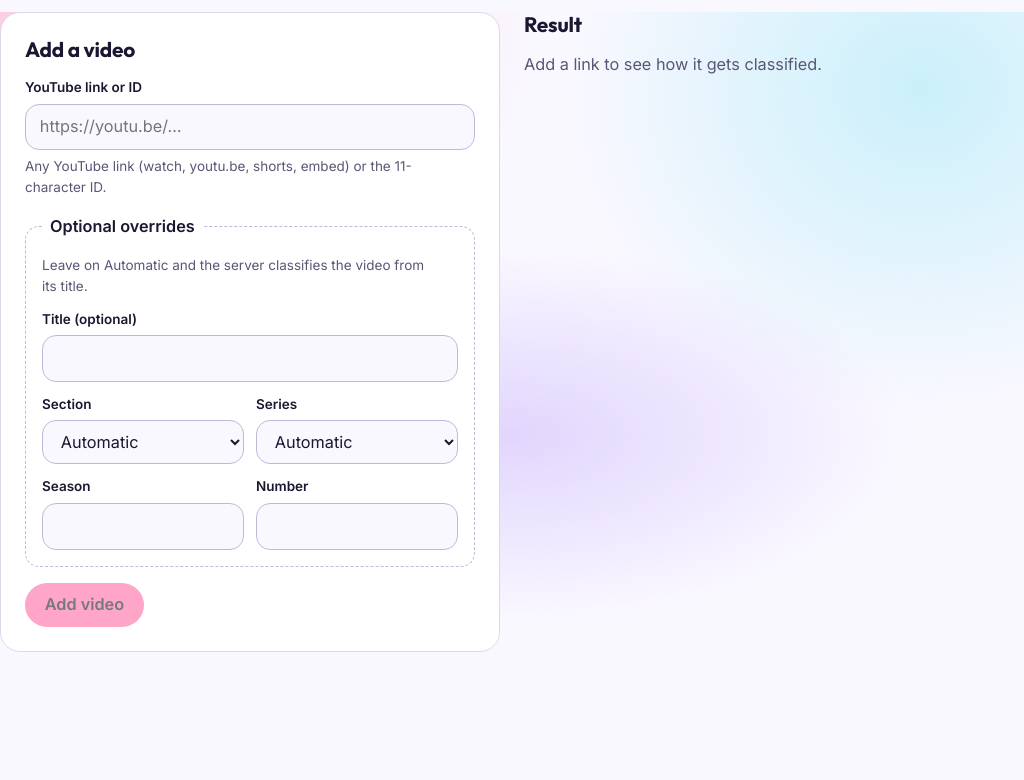
it: adding a video that is in the trash (409) › a live duplicate still shows the usual 'already added' result
This screenshot has width=1024, height=780.
Step 1. Type "B9498740005" into the field labelled "YouTube link or ID" → (250, 127), box [25,104,475,150]
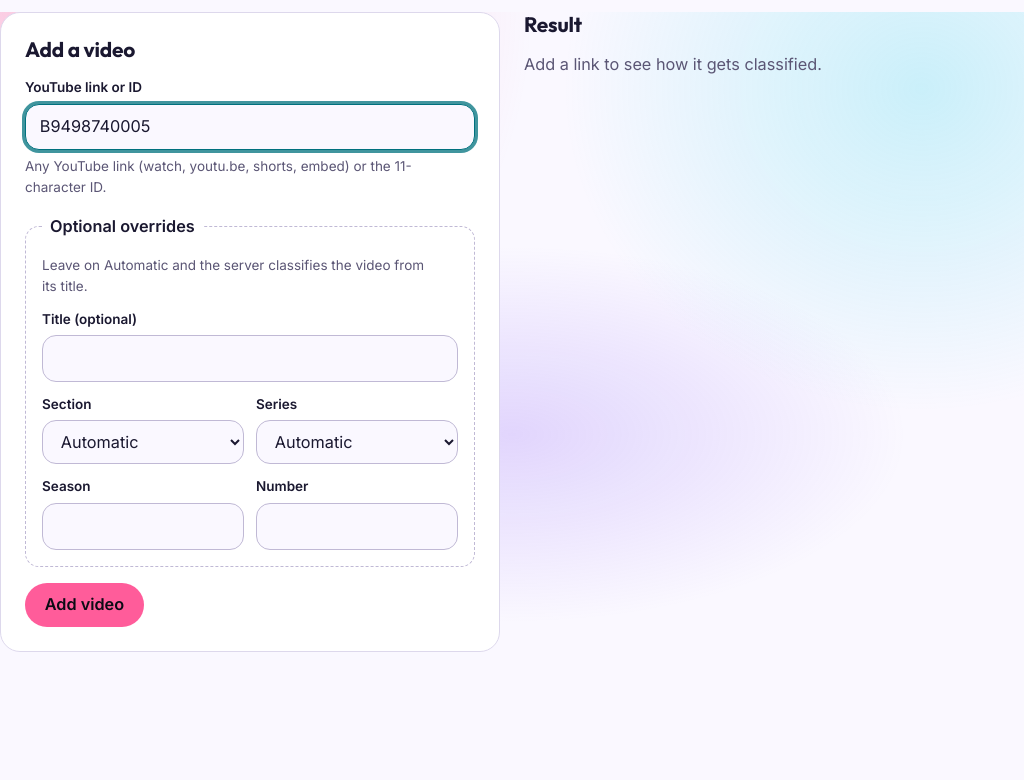
Step 2. Click the button "Add video" → (84, 605), box [25,583,144,627]
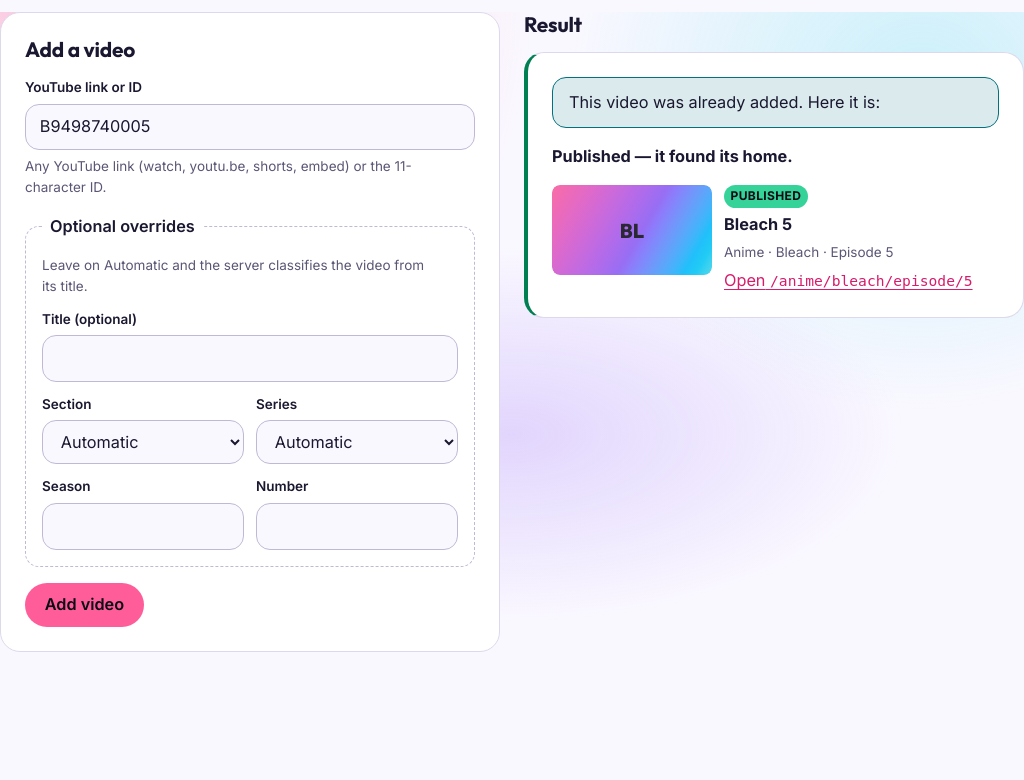
Result: the text "This video was already added. Here it is:" is shown at [552,77,999,128]
Result: the text "Published — it found its home." is shown at [552,146,793,166]
